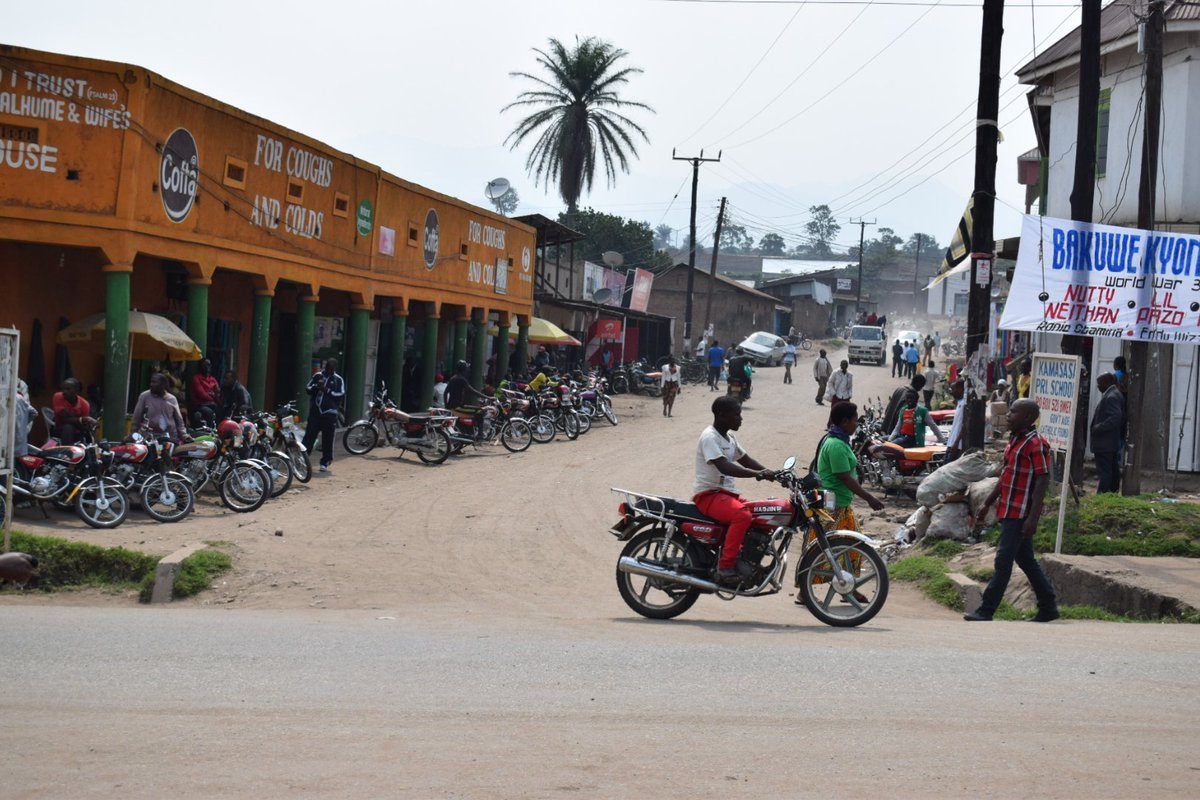motorbike: (596, 437, 896, 644)
